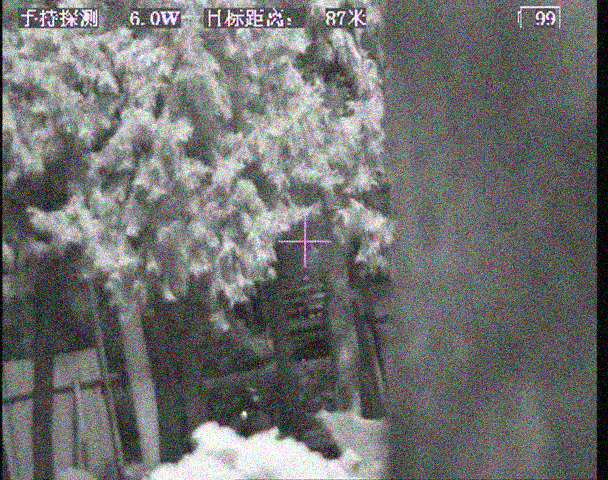my: (238, 408, 249, 420)
